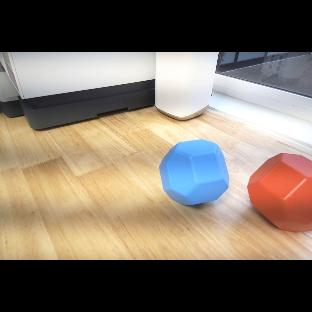V5_BLUE: (159, 140, 231, 209)
V5_RED: (247, 143, 312, 234)
